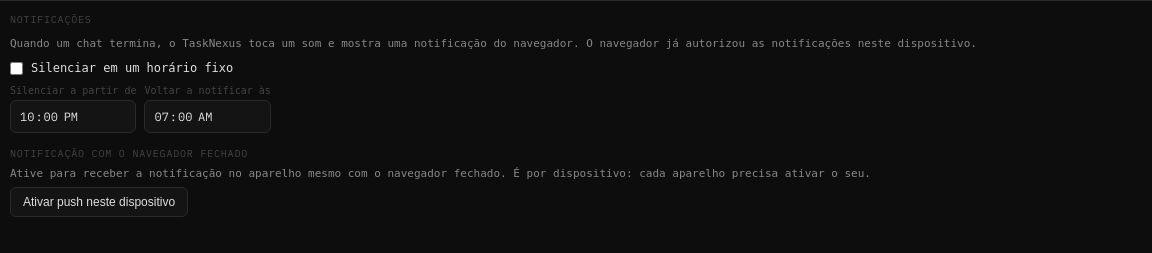
NotificationSettings — enabling push › does not claim success when the backend registration fails
The width and height of the screenshot is (1152, 253).
Click the button "Ativar push neste dispositivo": {"x": 99, "y": 202} top-left (10, 187), bottom-right (188, 217)
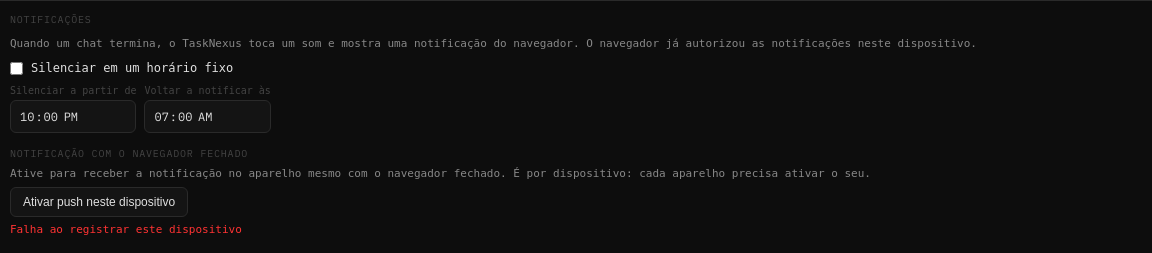
Result: the message shows "Falha ao registrar" at top-left (10, 223), bottom-right (242, 236)
